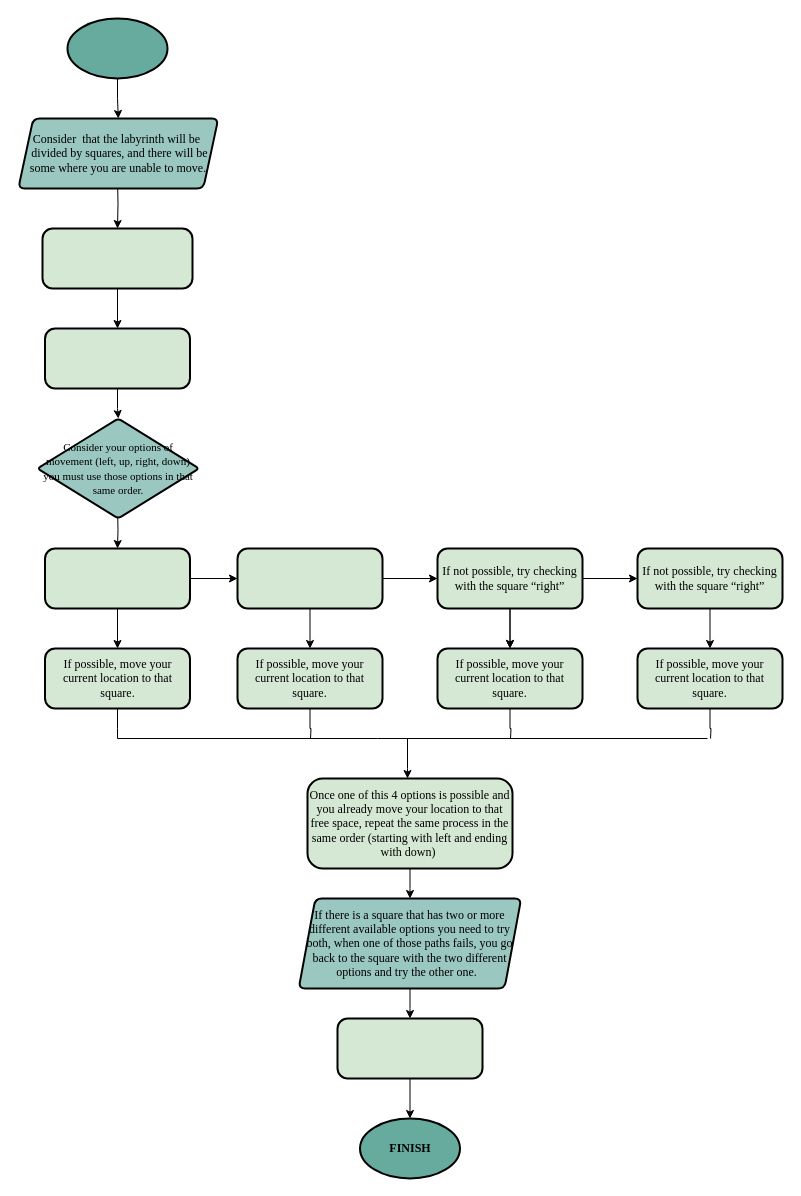
Some shapes in this 801 by 1196 pixel diagram are drawn without their labels. Each missing label, with the box of its shape:
Check if the square at the “left” to your starting point is available.: (44, 547, 190, 609)
identify where the exit 'S' is. Search in every possible square: (44, 327, 190, 389)
Identify where your starting point 'E' is. Search in every possible square.: (41, 227, 193, 289)
If not possible, try checking with the square “up”: (236, 547, 383, 609)
Repeat this whole process until you find the exit 'S'.: (336, 1017, 483, 1079)
START: (66, 17, 168, 79)
